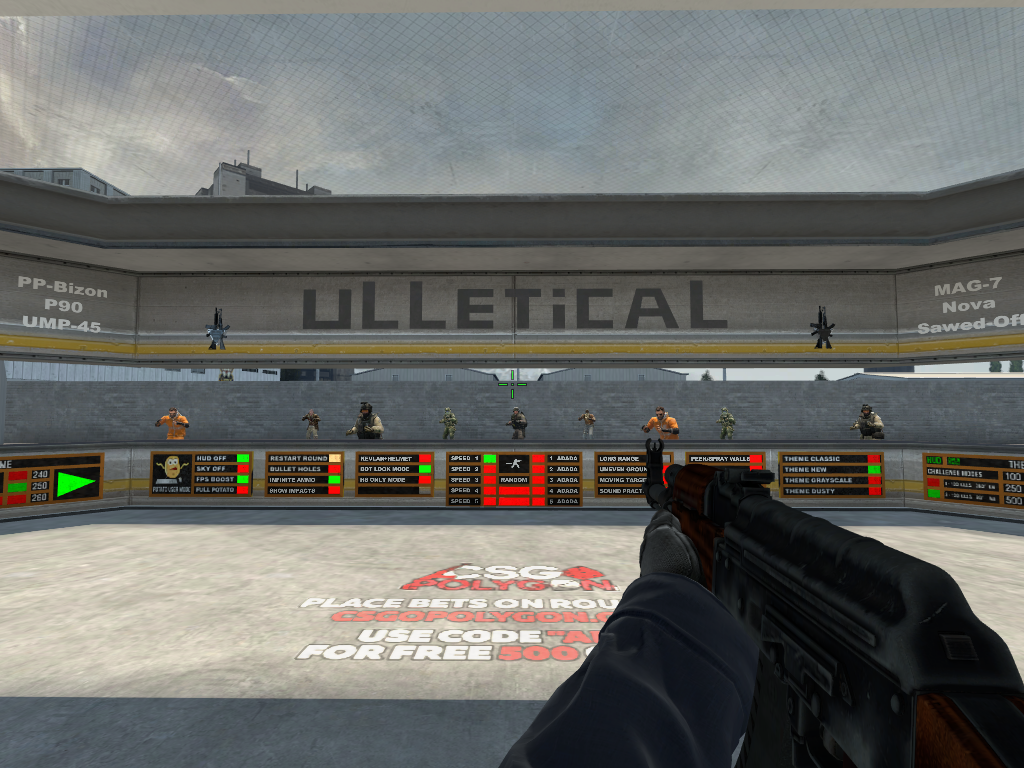ct head: (361, 404, 371, 417), (861, 405, 872, 416), (513, 407, 519, 415), (722, 408, 728, 416), (445, 408, 451, 415)
tr head: (656, 407, 665, 420), (169, 408, 177, 418), (309, 410, 314, 415), (585, 410, 590, 415)
